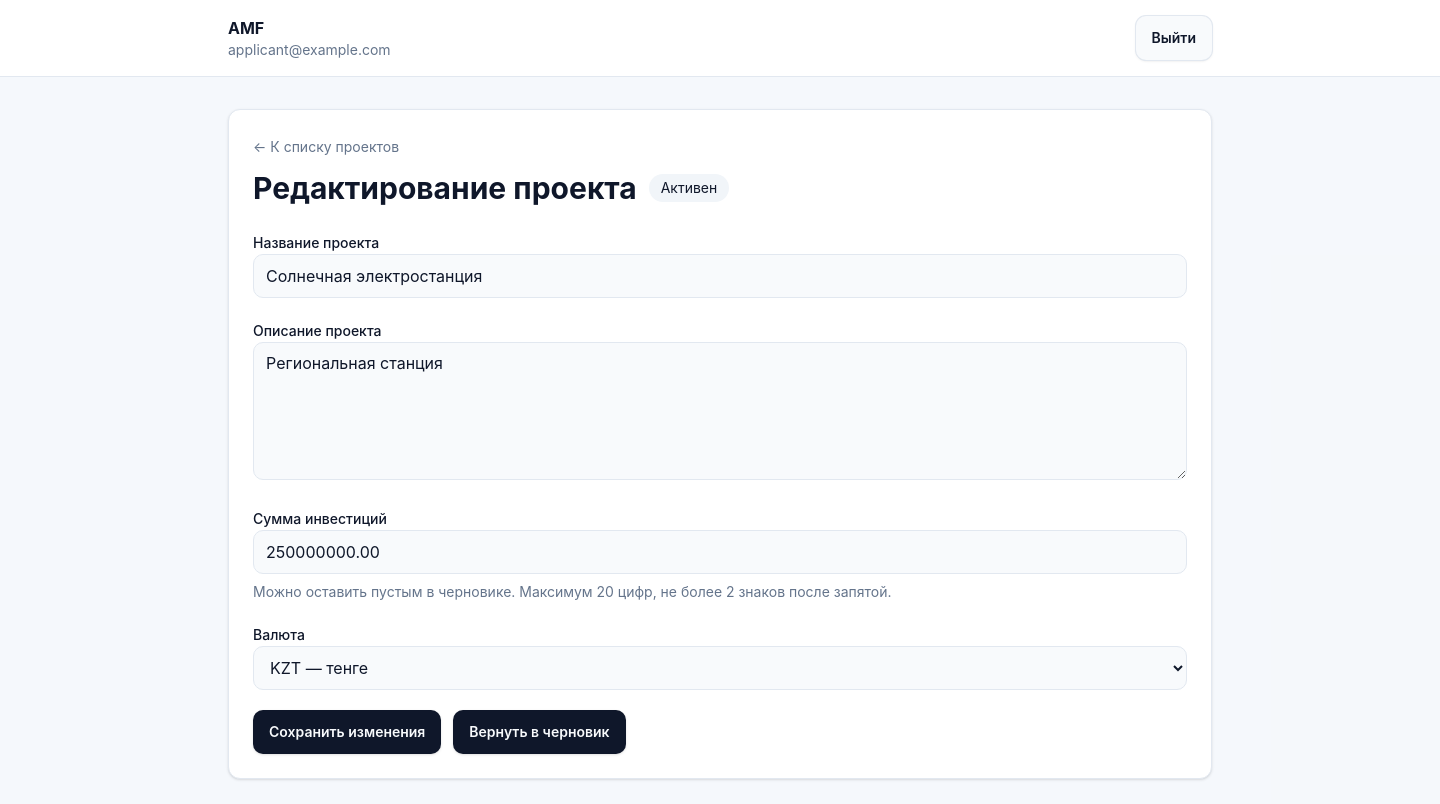
it: project editor › blocks an active edit that would make its description incomplete
Clear the text box labelled "Описание проекта": (720, 411) x1=253 y1=342 x2=1187 y2=480
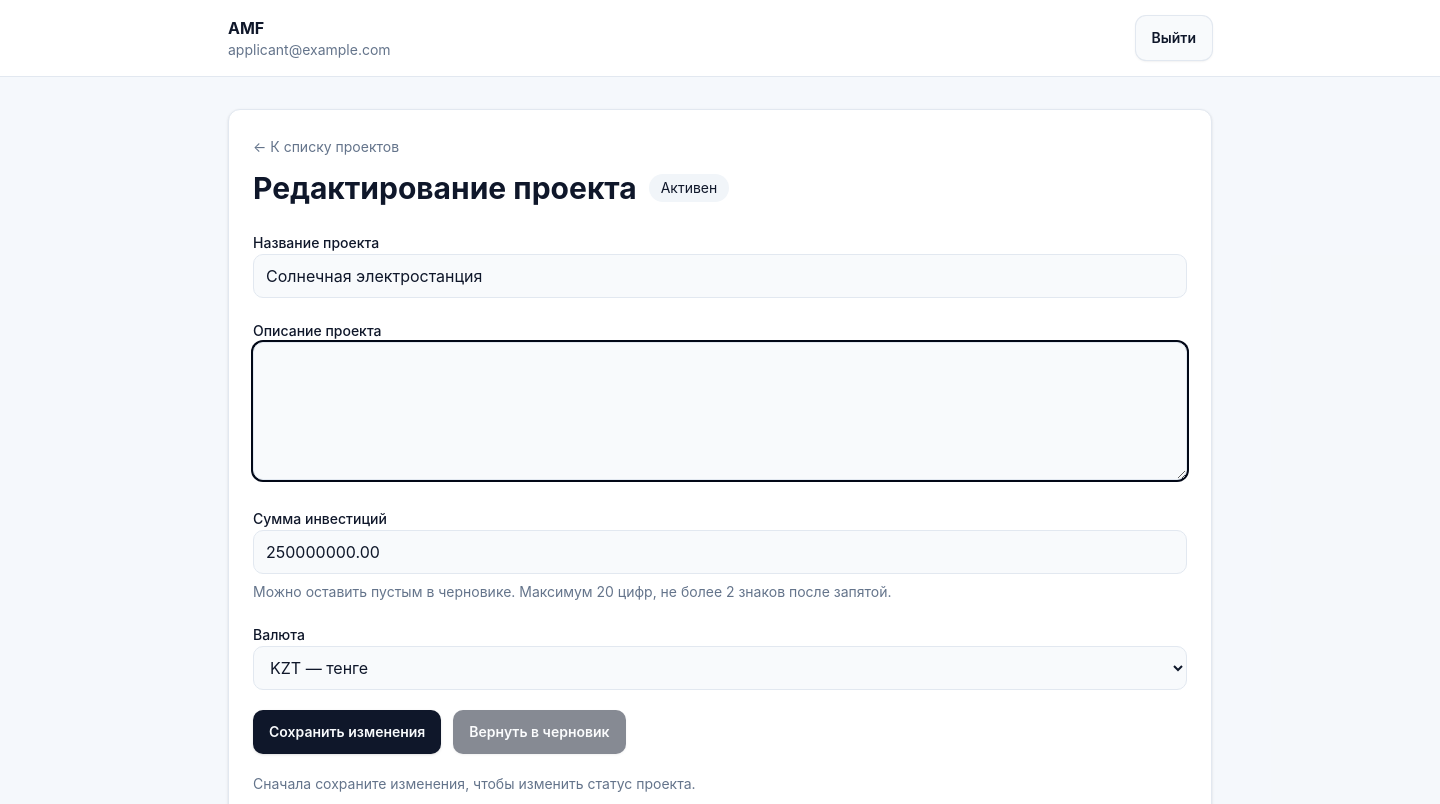
Click the button "Сохранить изменения": (347, 732) x1=253 y1=710 x2=441 y2=754
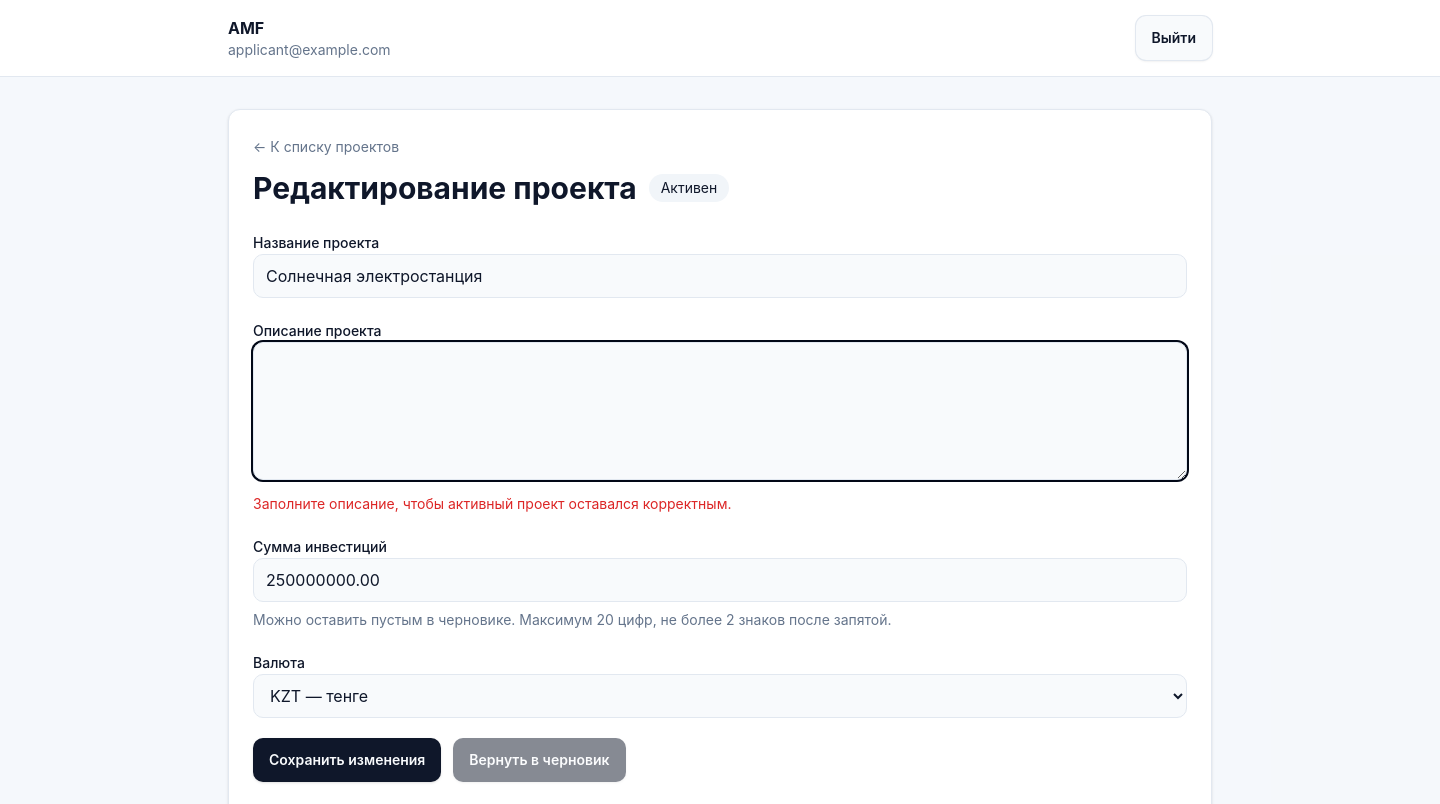
Expected: the text "Заполните описание, чтобы активный проект оставался корректным." is shown, x1=253 y1=495 x2=732 y2=512
